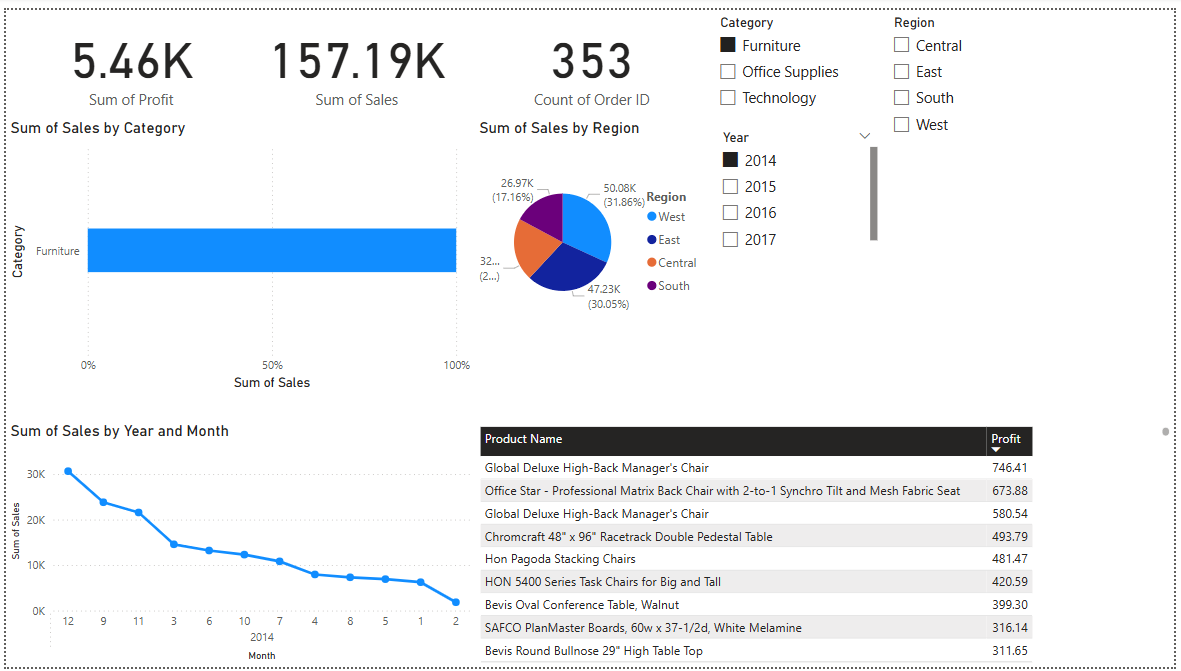

This screenshot's page, from the dashboard's own definition file:
{"tool":"powerbi","page":{"name":"Page 1","canvas":[1280,720],"ordinal":0},"visuals":[{"type":"card","fields":{"Values":["Sum(Sample - Superstore (2).Profit)"]},"box":[9.8,0,255.6,118.6],"z":0},{"type":"card","fields":{"Values":["Sum(Sample - Superstore (2).Sales)"]},"box":[256.8,0,256.8,118.6],"z":1000},{"type":"card","fields":{"Values":["Count(Sample - Superstore (2).Order ID)"]},"box":[513.6,0,256.8,118.6],"z":2000},{"type":"hundredPercentStackedBarChart","fields":{"Category":["Sample - Superstore (2).Category"],"Y":["Sum(Sample - Superstore (2).Sales)"]},"box":[0,118.6,513.6,302],"z":3000},{"type":"pieChart","fields":{"Y":["Sum(Sample - Superstore (2).Sales)"],"Category":["Sample - Superstore (2).Region"]},"box":[513.6,118.6,258,251.9],"z":5000},{"type":"tableEx","fields":{"Values":["Sample - Superstore (2).Product Name","Sample - Superstore (2).Profit"]},"box":[513.6,452.4,766.7,267.8],"z":6000},{"type":"slicer","fields":{"Values":["Sample - Superstore (2).Category"]},"box":[770.4,0,189.5,126],"z":7000},{"type":"slicer","fields":{"Values":["Sample - Superstore (2).Region"]},"box":[959.9,0,188.3,156.5],"z":8000},{"type":"slicer","fields":{"Values":["Sample - Superstore (2).Year"]},"box":[772.5,126.2,187.5,143.8],"z":9000},{"type":"lineChart","fields":{"Y":["Sum(Sample - Superstore (2).Sales)"],"Category":["Sample - Superstore (2).Year","Sample - Superstore (2).Month"]},"box":[0,450.7,513.7,268.5],"z":9001}]}

Visuals, with their boxes in screenshot pixels (x1, y1, x2, y2), scaled from the page's 1280x720 canvas onto the 1181x671 screenshot:
card - Sum(Sample - Superstore (2).Profit): {"left": 9, "top": 0, "right": 245, "bottom": 111}
card - Sum(Sample - Superstore (2).Sales): {"left": 237, "top": 0, "right": 474, "bottom": 111}
card - Count(Sample - Superstore (2).Order ID): {"left": 474, "top": 0, "right": 711, "bottom": 111}
hundredPercentStackedBarChart - Sample - Superstore (2).Category x Sum(Sample - Superstore (2).Sales): {"left": 0, "top": 111, "right": 474, "bottom": 392}
pieChart - Sum(Sample - Superstore (2).Sales) x Sample - Superstore (2).Region: {"left": 474, "top": 111, "right": 712, "bottom": 345}
tableEx - Sample - Superstore (2).Product Name x Sample - Superstore (2).Profit: {"left": 474, "top": 422, "right": 1180, "bottom": 670}
slicer - Sample - Superstore (2).Category: {"left": 711, "top": 0, "right": 886, "bottom": 117}
slicer - Sample - Superstore (2).Region: {"left": 886, "top": 0, "right": 1059, "bottom": 146}
slicer - Sample - Superstore (2).Year: {"left": 713, "top": 118, "right": 886, "bottom": 252}
lineChart - Sum(Sample - Superstore (2).Sales) x Sample - Superstore (2).Year: {"left": 0, "top": 420, "right": 474, "bottom": 670}
